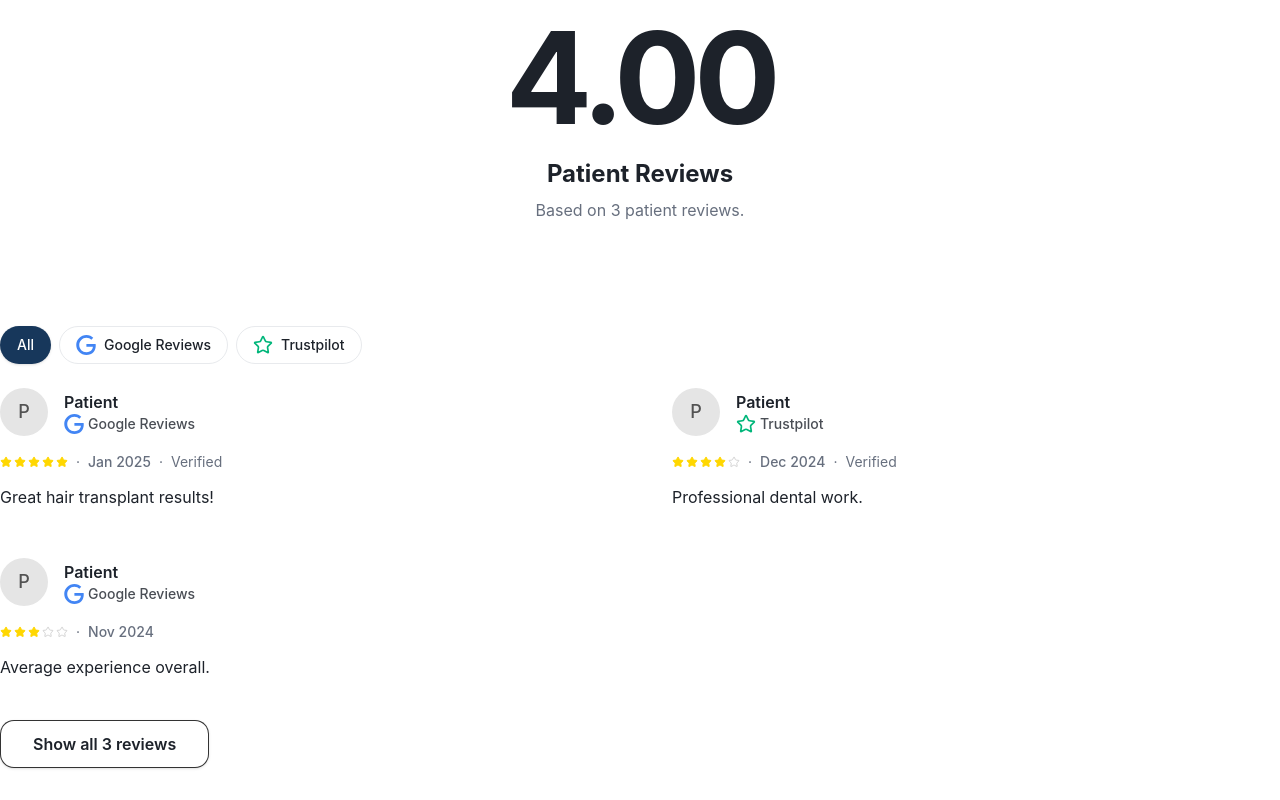
Test: ReviewsSection modal search › clears search when clear button is clicked
(page scrolled)
// Open the modal
Click the button "Show all 3 reviews" at [105, 744], box [0, 720, 209, 768]
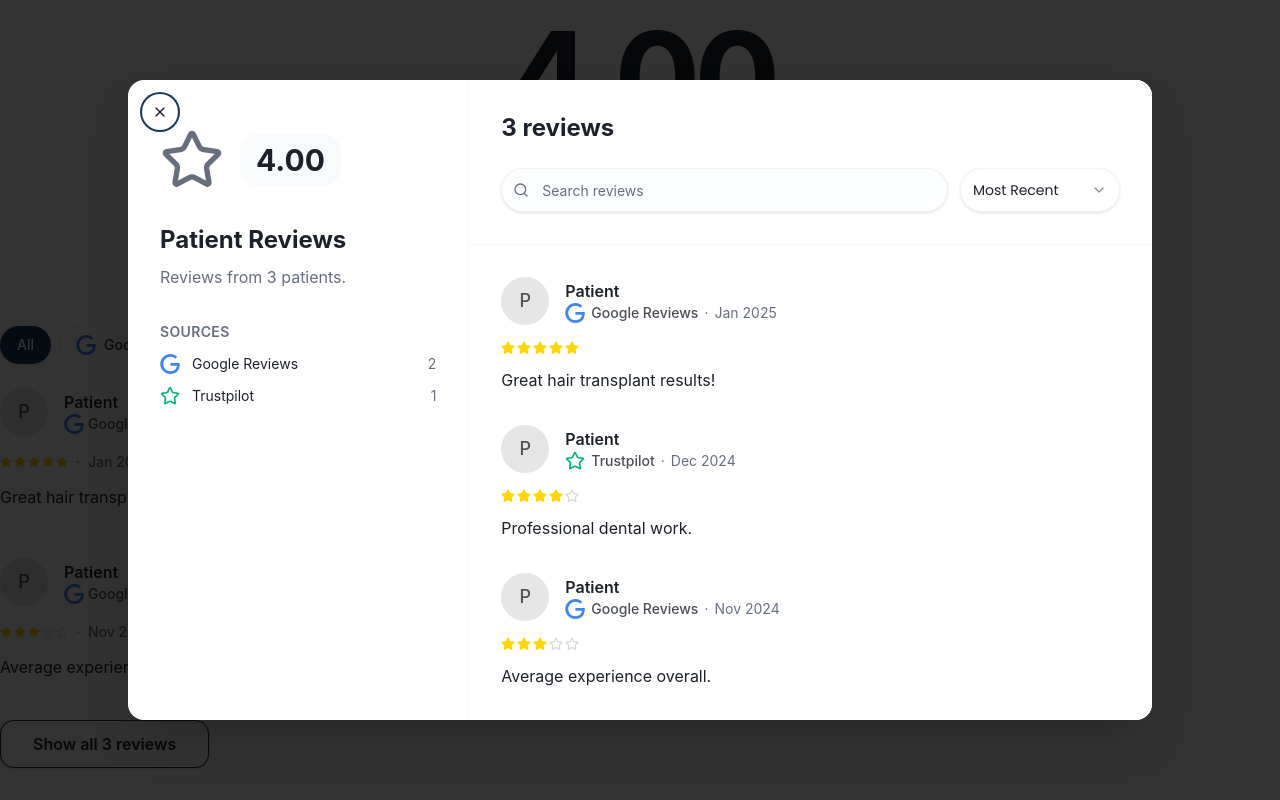
// Search for something that doesn't exist
Type "xyz123nonexistent" into the field with placeholder "Search reviews" at [725, 190], box [501, 168, 948, 212]
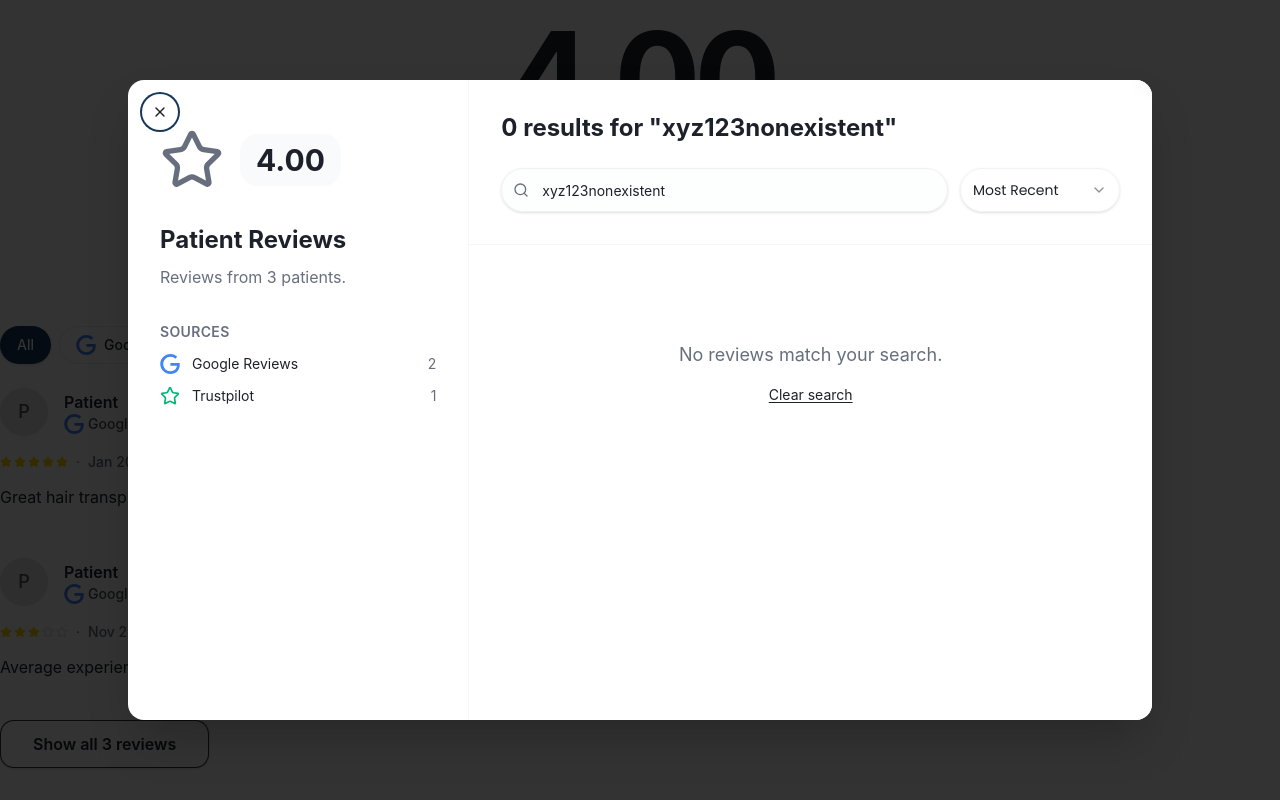
// Click clear search
Click the button "Clear search" at [811, 395], box [769, 385, 853, 405]
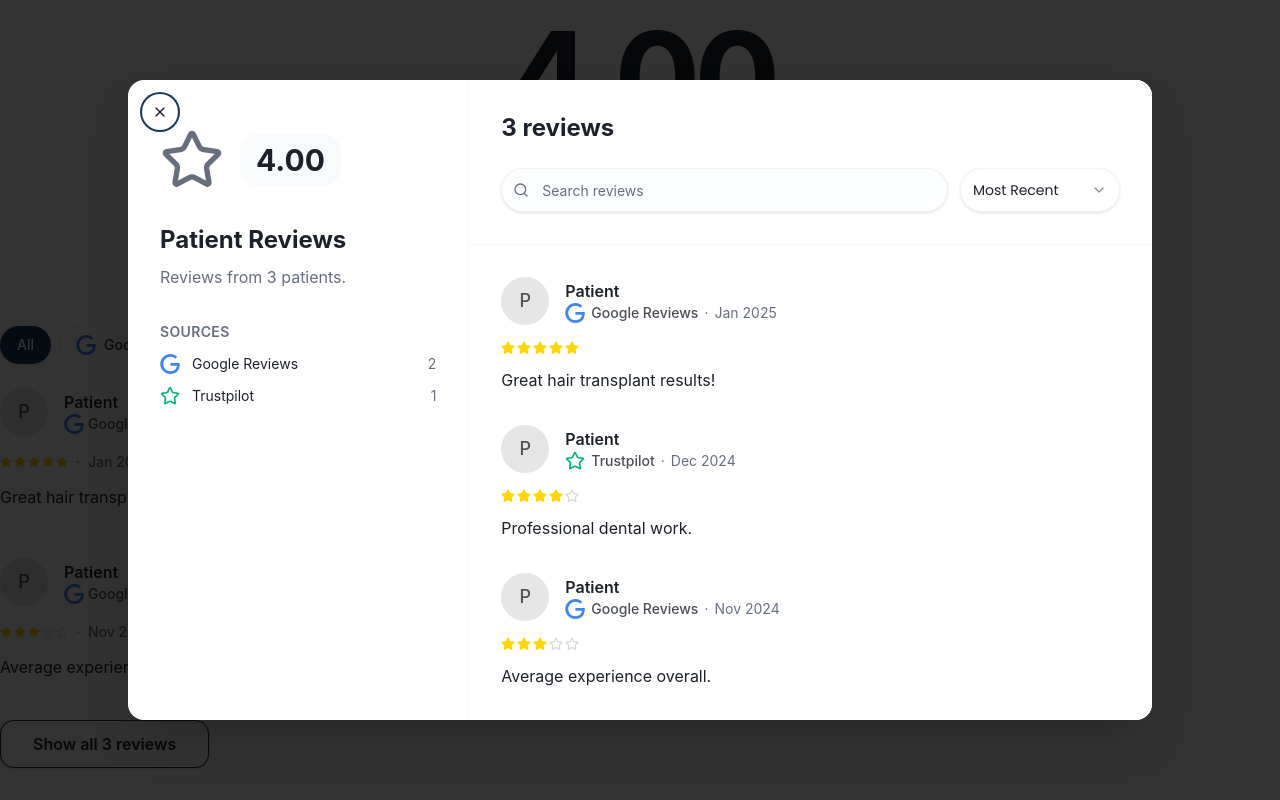
expect the heading "3 reviews" is shown: met, box [501, 113, 614, 142]
